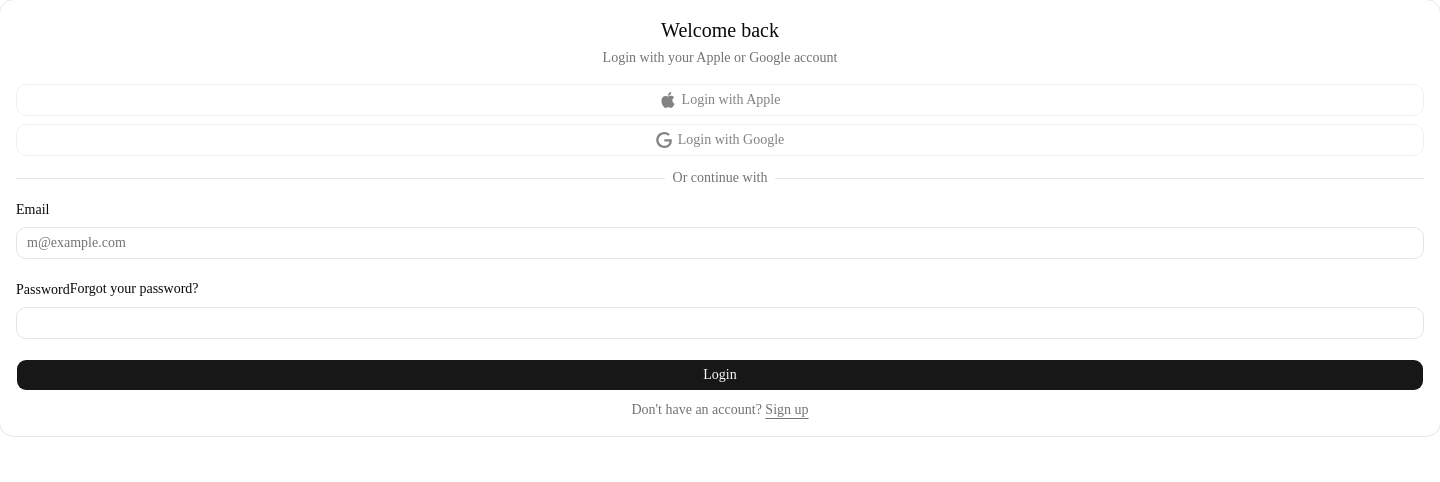
Scenario: LoginForm › blocks submit for a password under six characters
Type "user@test.com" into the field labelled "Email" at (720, 243), box [16, 227, 1424, 259]
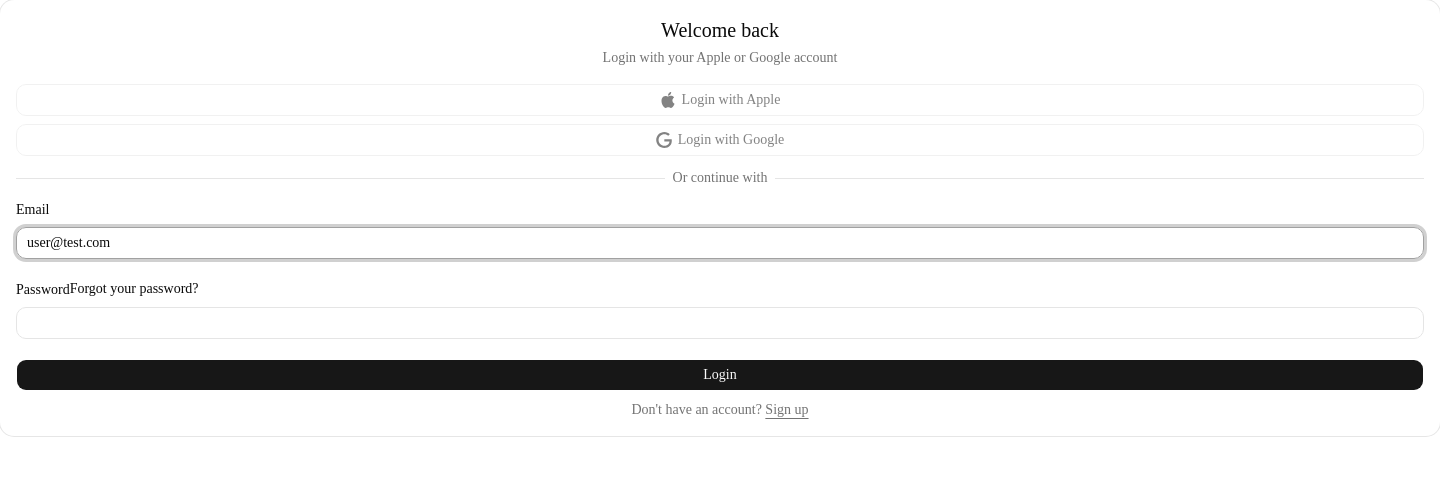
Type "short" into the password field labelled "Password" at (720, 323), box [16, 307, 1424, 339]
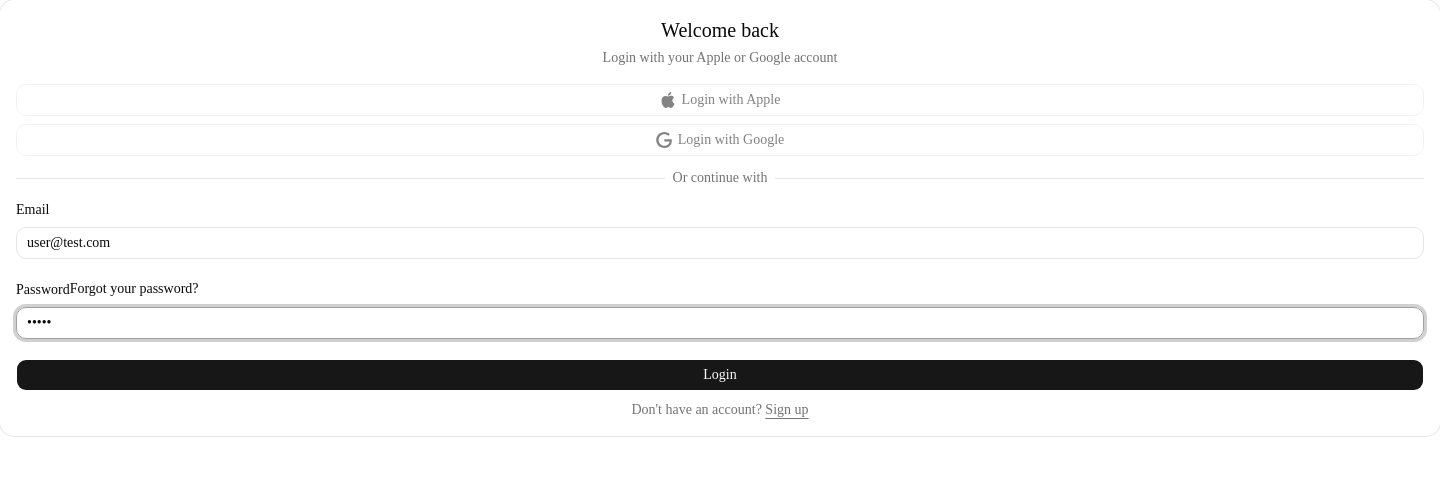
Click the button "Login" at (720, 375), box [16, 359, 1424, 391]
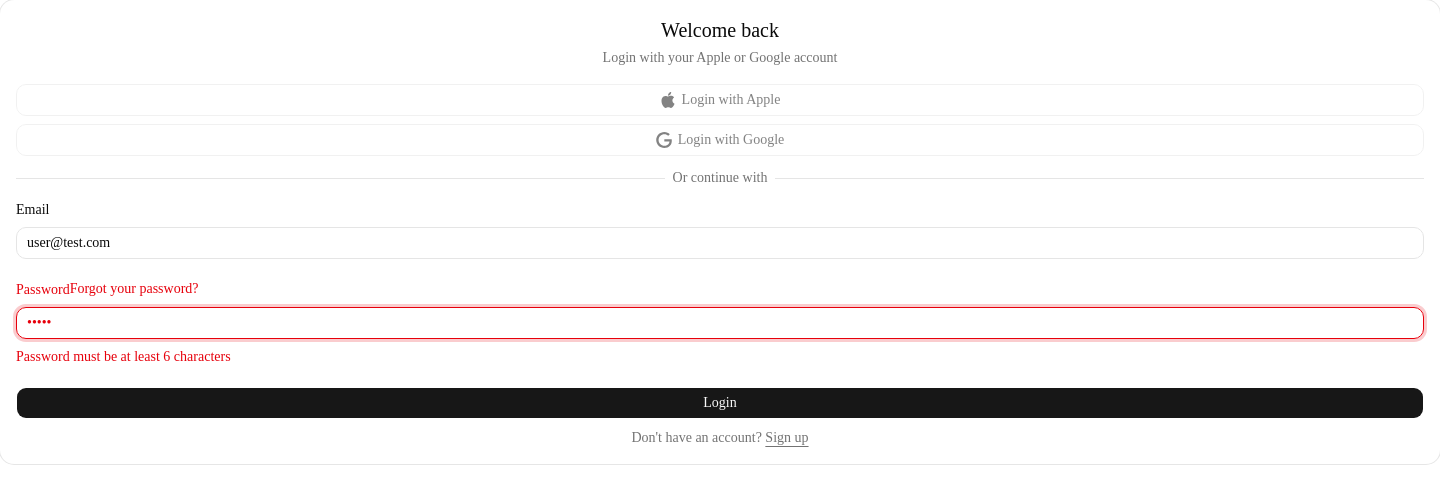
Expected: the text "Password must be at least 6 characters" is shown, [16, 349, 231, 364]
